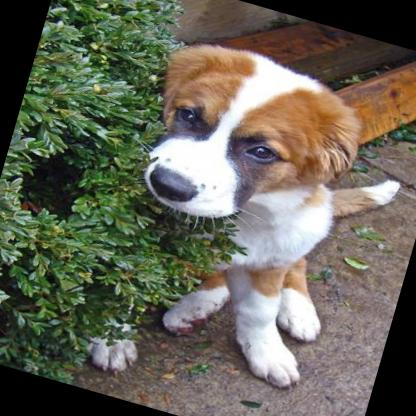Saint_Bernard: (72, 25, 416, 416)
